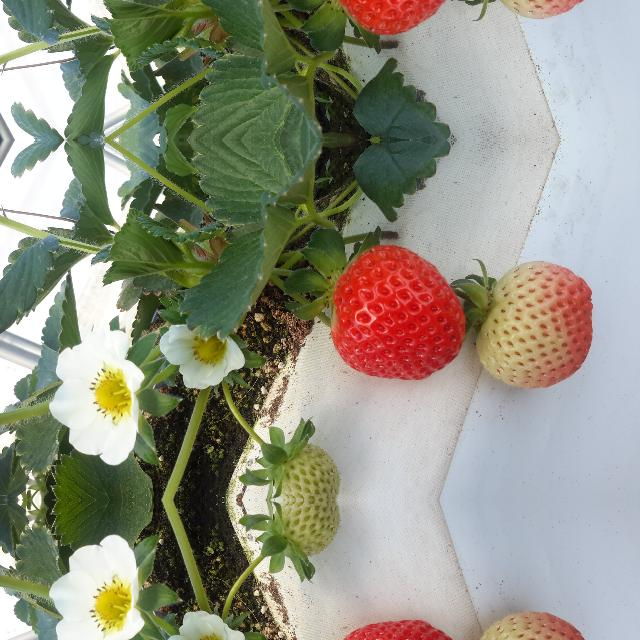Health_100: (330, 245, 464, 379), (330, 0, 464, 35)
Health_25: (252, 434, 344, 500), (252, 500, 344, 566)
Health_50: (474, 254, 594, 392), (474, 608, 593, 640)
